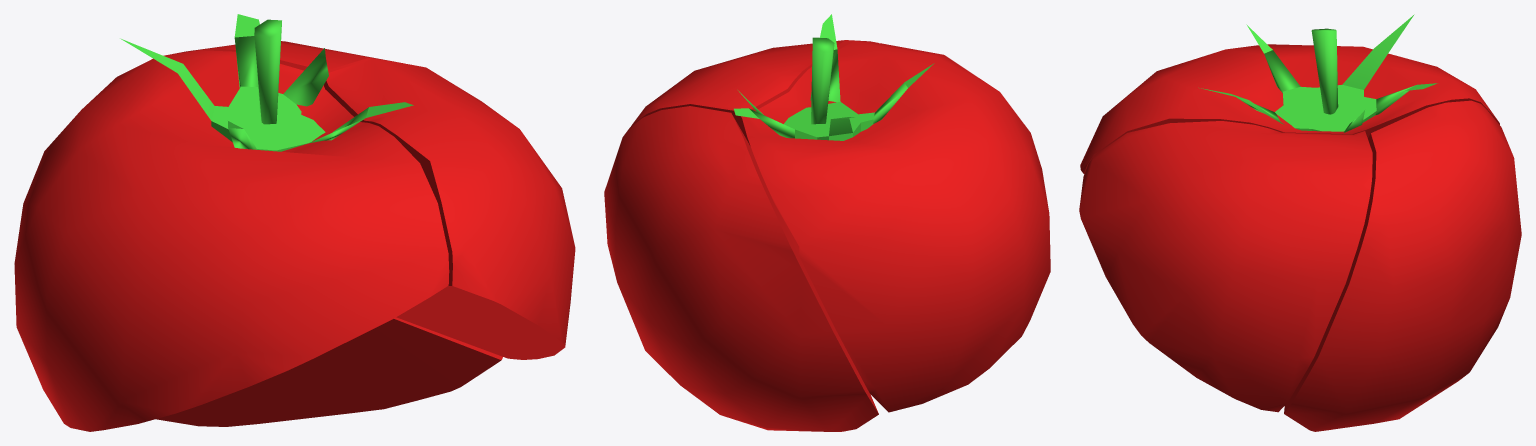
The model's file is tomato.fbx.
3 renders of one model, left to right at view 1: azimuth 30°, elevation 25°; view 2: azimuth 150°, elevation 25°; view 3: azimuth 270°, elevation 25°, orthographic. The views are drawn at different scales.
Visible parts, largest first — view 1: tomato_whole_cell.002, tomato_whole_cell.003, tomato_whole_cell, tomato_whole_cell.005; view 2: tomato_whole_cell.002, tomato_whole_cell, tomato_whole_cell.003, tomato_whole_cell.005; view 3: tomato_whole_cell.003, tomato_whole_cell, tomato_whole_cell.002, tomato_whole_cell.005.
Part boxes in pixels (bbox=[...]): tomato_whole_cell.002: bbox=[14, 19, 449, 431]; tomato_whole_cell.003: bbox=[324, 58, 575, 359]; tomato_whole_cell: bbox=[156, 41, 502, 426]; tomato_whole_cell.005: bbox=[120, 14, 413, 151]; tomato_whole_cell.002: bbox=[741, 37, 1050, 412]; tomato_whole_cell: bbox=[604, 106, 878, 431]; tomato_whole_cell.003: bbox=[631, 40, 878, 145]; tomato_whole_cell.005: bbox=[734, 14, 934, 140]; tomato_whole_cell.003: bbox=[1079, 121, 1372, 412]; tomato_whole_cell: bbox=[1284, 100, 1521, 431]; tomato_whole_cell.002: bbox=[1080, 28, 1499, 173]; tomato_whole_cell.005: bbox=[1198, 14, 1437, 132].
Bounding box in the file's own units: 27.13 × 23.5 × 26.15.
